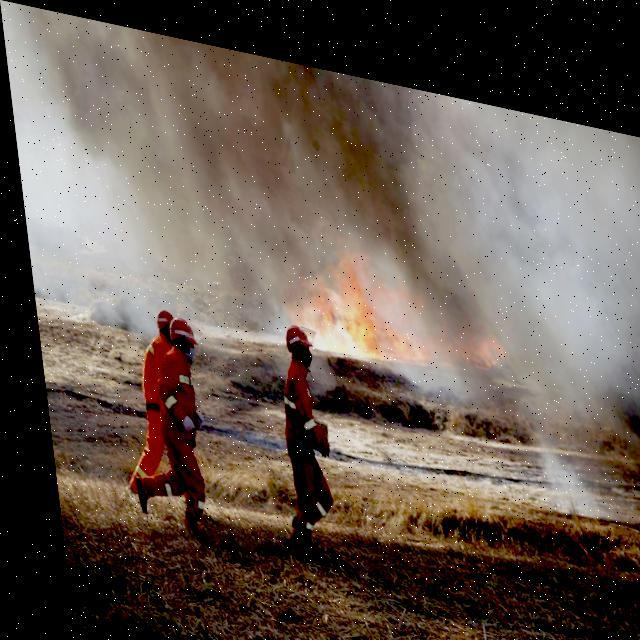Fire: (280, 229, 520, 369)
